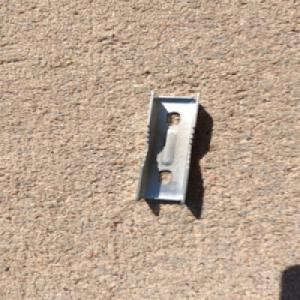ClampPart: (132, 90, 203, 206)
